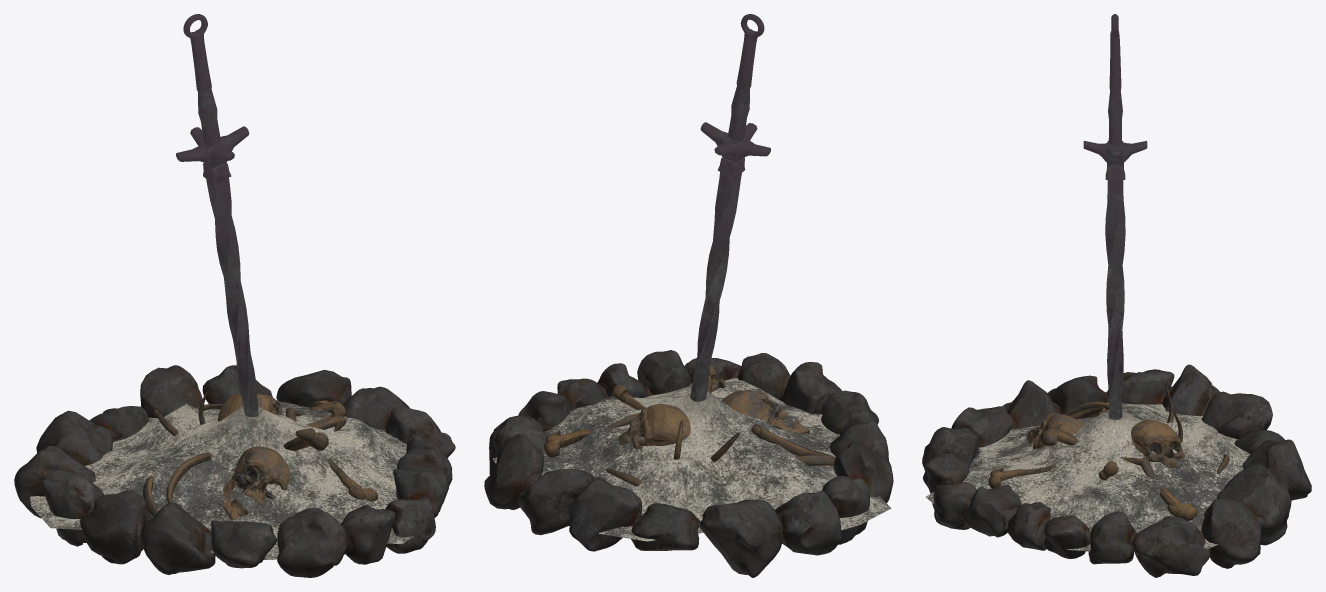
Rendered from bonfire.glb.
3 renders of one model, left to right at view 1: azimuth 30°, elevation 25°; view 2: azimuth 150°, elevation 25°; view 3: azimuth 270°, elevation 25°, orthographic. The views are drawn at different scales.
Visible parts, largest first — view 1: defaultMaterial (×6); view 2: defaultMaterial (×6); view 3: defaultMaterial (×6).
Part boxes in pixels (x1=…): defaultMaterial (×6): x1=14, y1=14, x2=455, y2=577; defaultMaterial (×6): x1=484, y1=14, x2=893, y2=577; defaultMaterial (×6): x1=922, y1=14, x2=1311, y2=577.
Size of the model in its own units: 1.02 by 1.31 by 0.9785.
6 materials, 6 textured.
